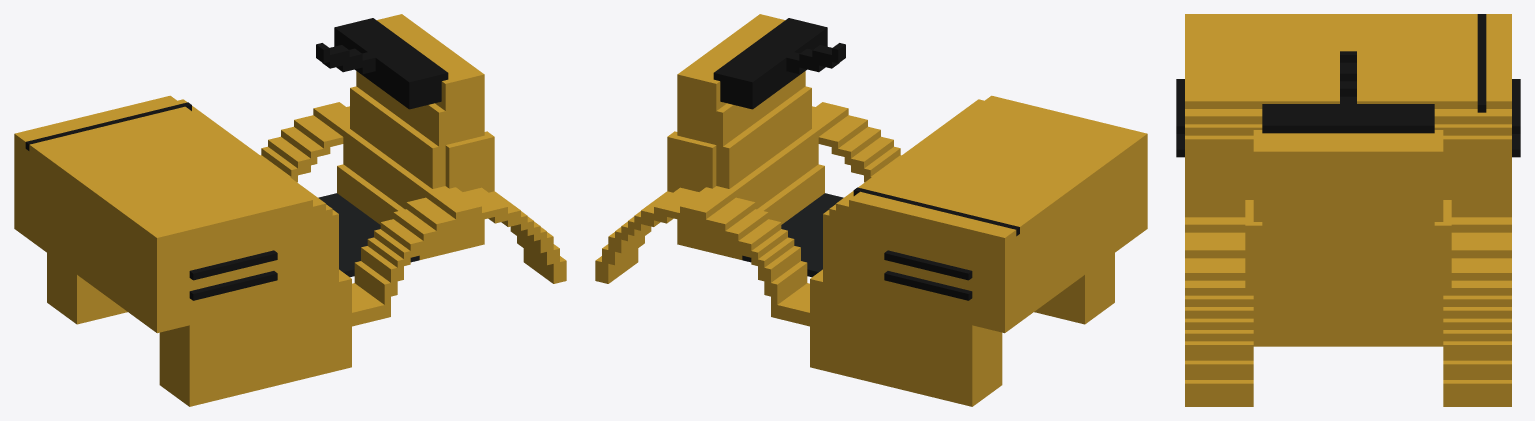
File: forklift_body.glb
3 views of the same model, side by side, from view 1: azimuth 30°, elevation 25°; view 2: azimuth 150°, elevation 25°; view 3: azimuth 270°, elevation 25° (orthographic). The views are drawn at different scales.
Parts seen in each view (by area): view 1: body:compound; view 2: body:compound; view 3: body:compound.
Boxes of the visible parts, <box> form: body:compound: <box>14,14,566,406</box>; body:compound: <box>595,14,1147,406</box>; body:compound: <box>1176,14,1520,406</box>.
Size of the model in its own units: 1.97 by 1.19 by 1.25.
